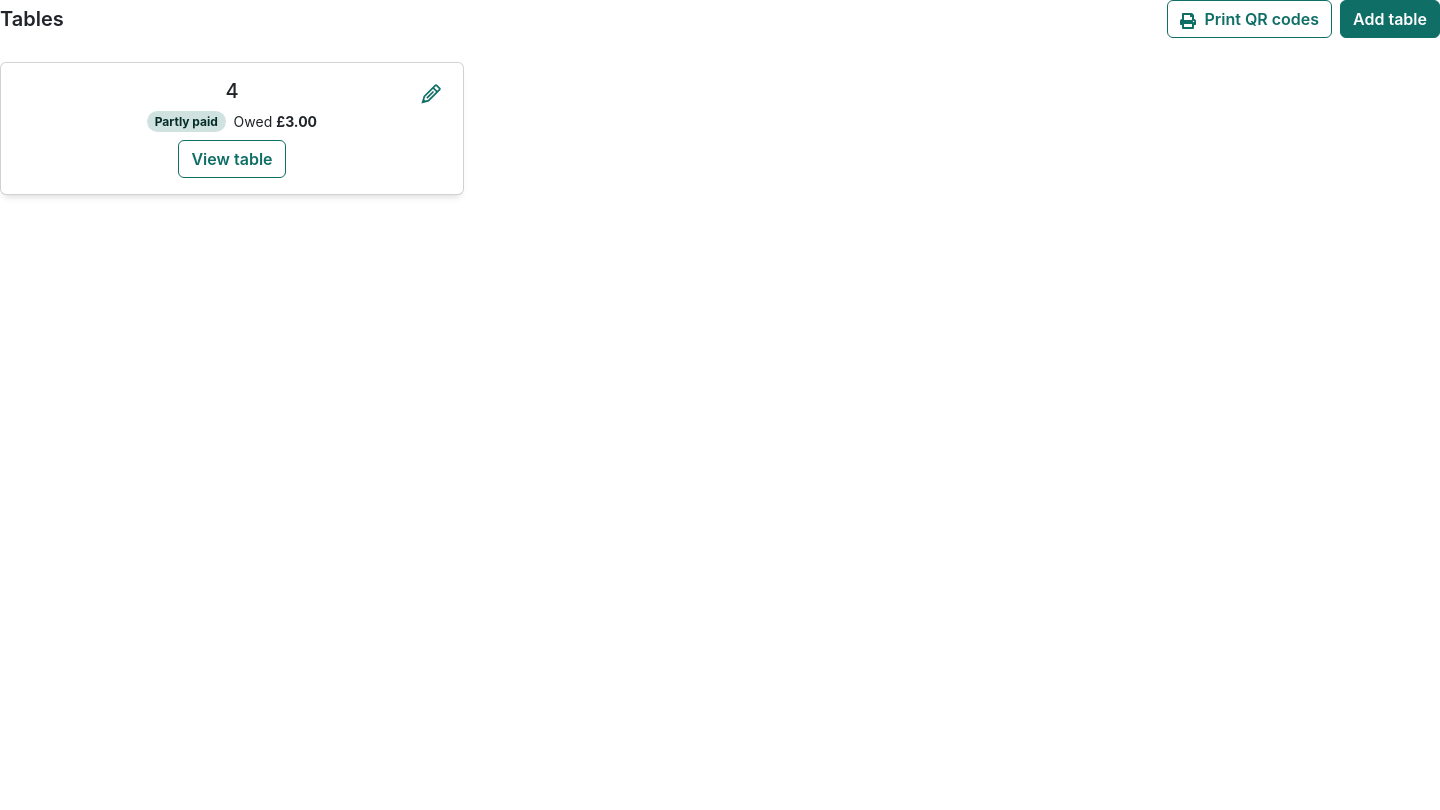
Test: refunding a payment › says nothing was refunded, and why, when PayPal refuses
The image size is (1440, 810).
Click the button with aria-label "View table 4": (232, 159) [178,140,286,178]
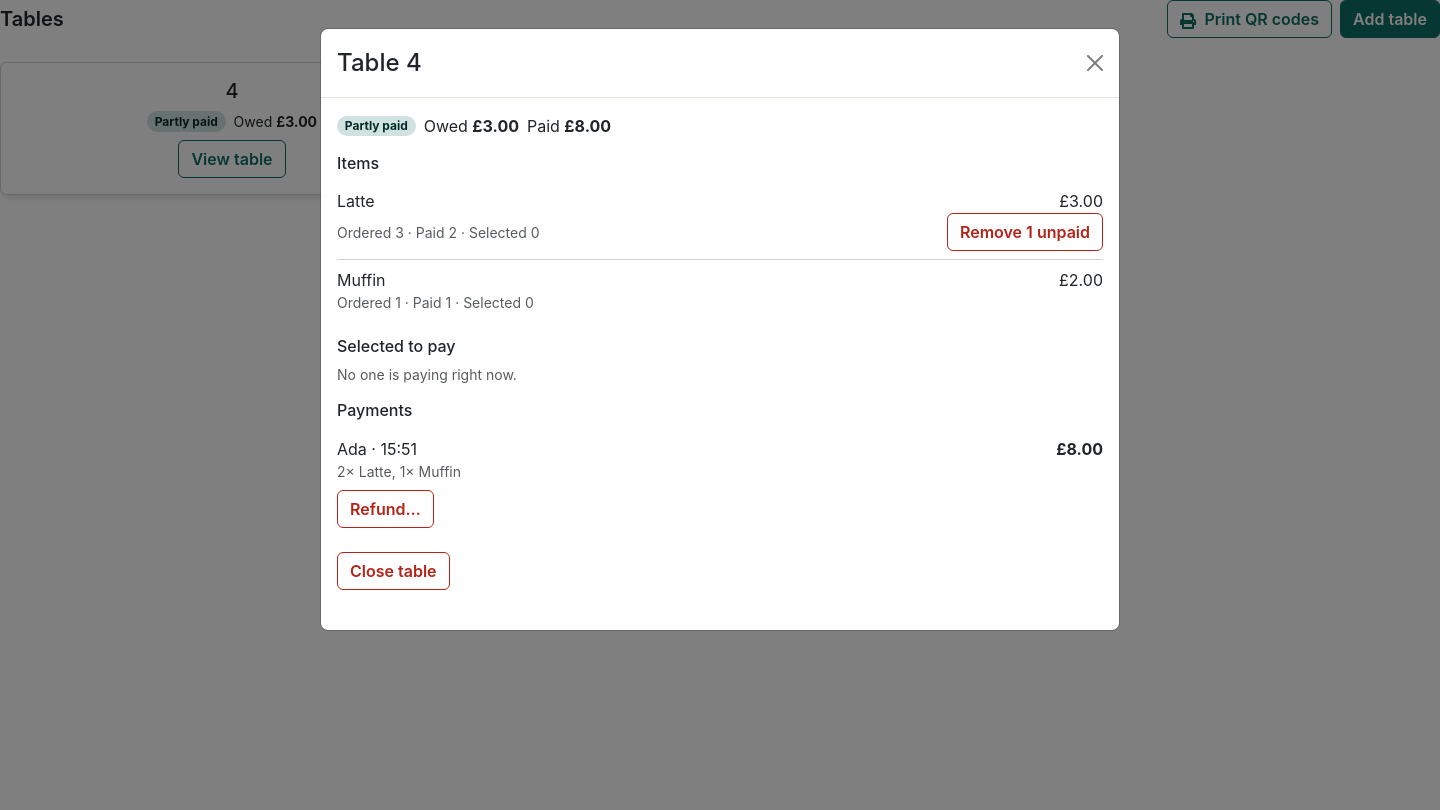
Click the button with aria-label "Refund items from Ada's payment of £8.00": (385, 509) [337,490,434,528]
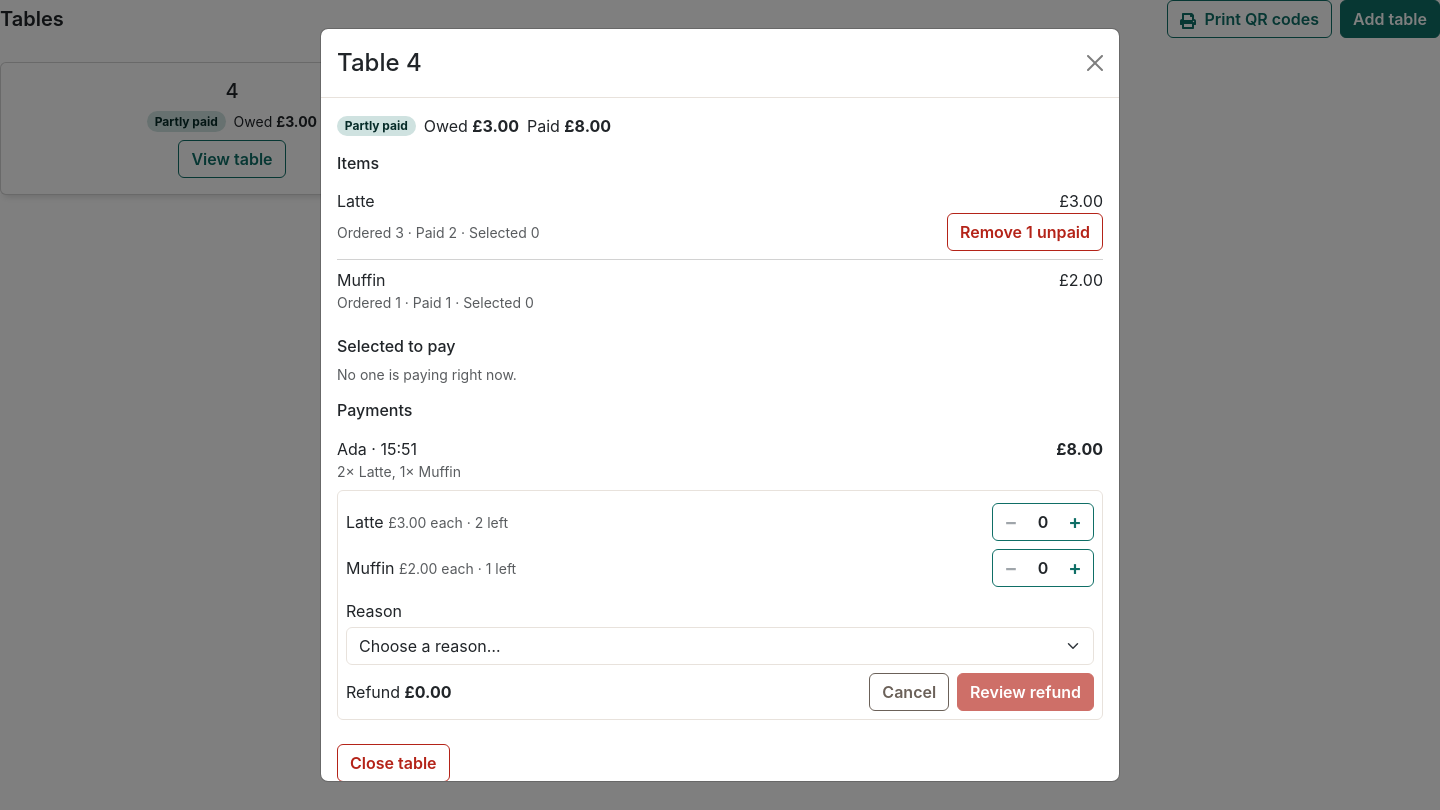
Click the button named "Refund one more Muffin": (1075, 568) [1057,550,1093,586]
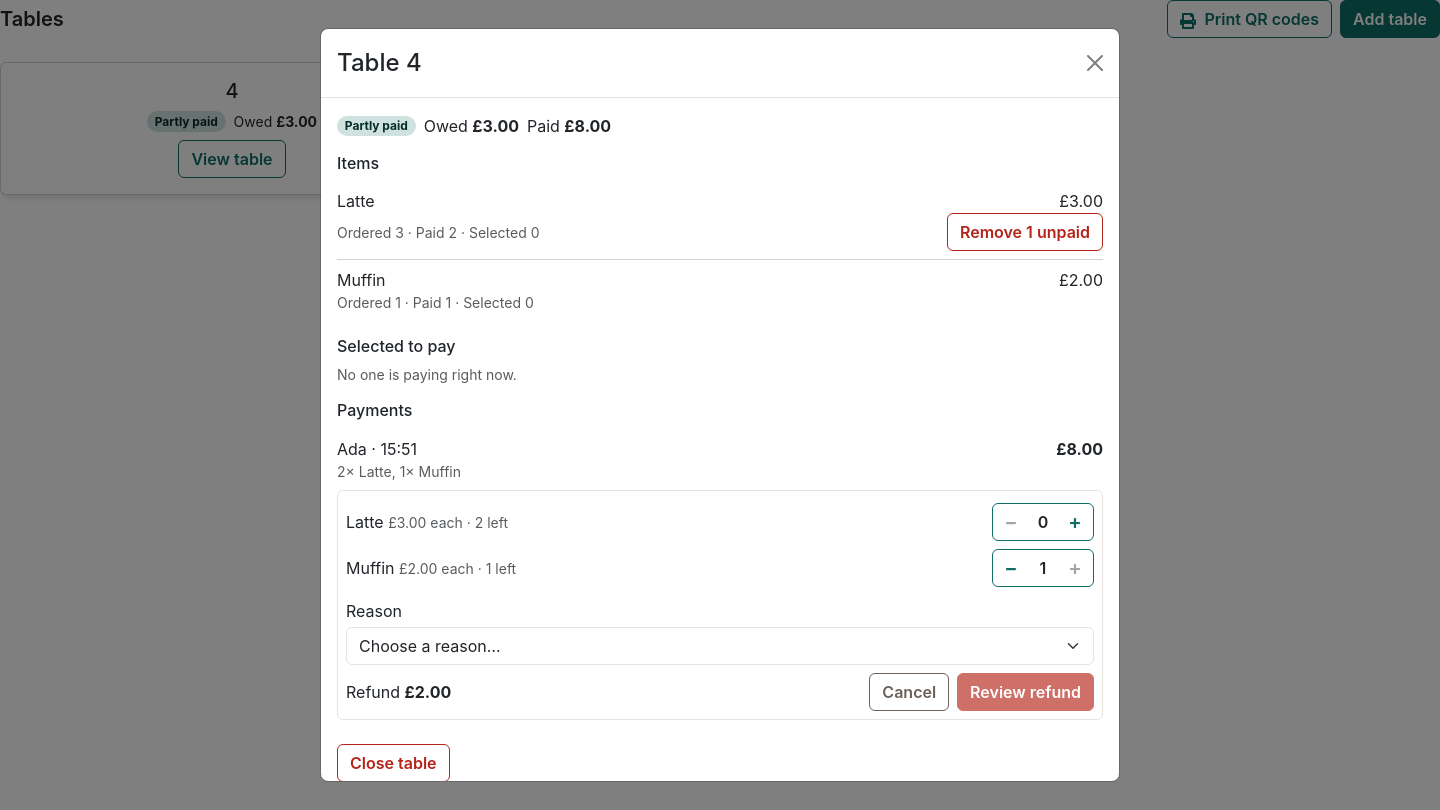
Select "Wrong item served" in the dropdown labelled "Reason": (720, 646) [346,627,1094,665]
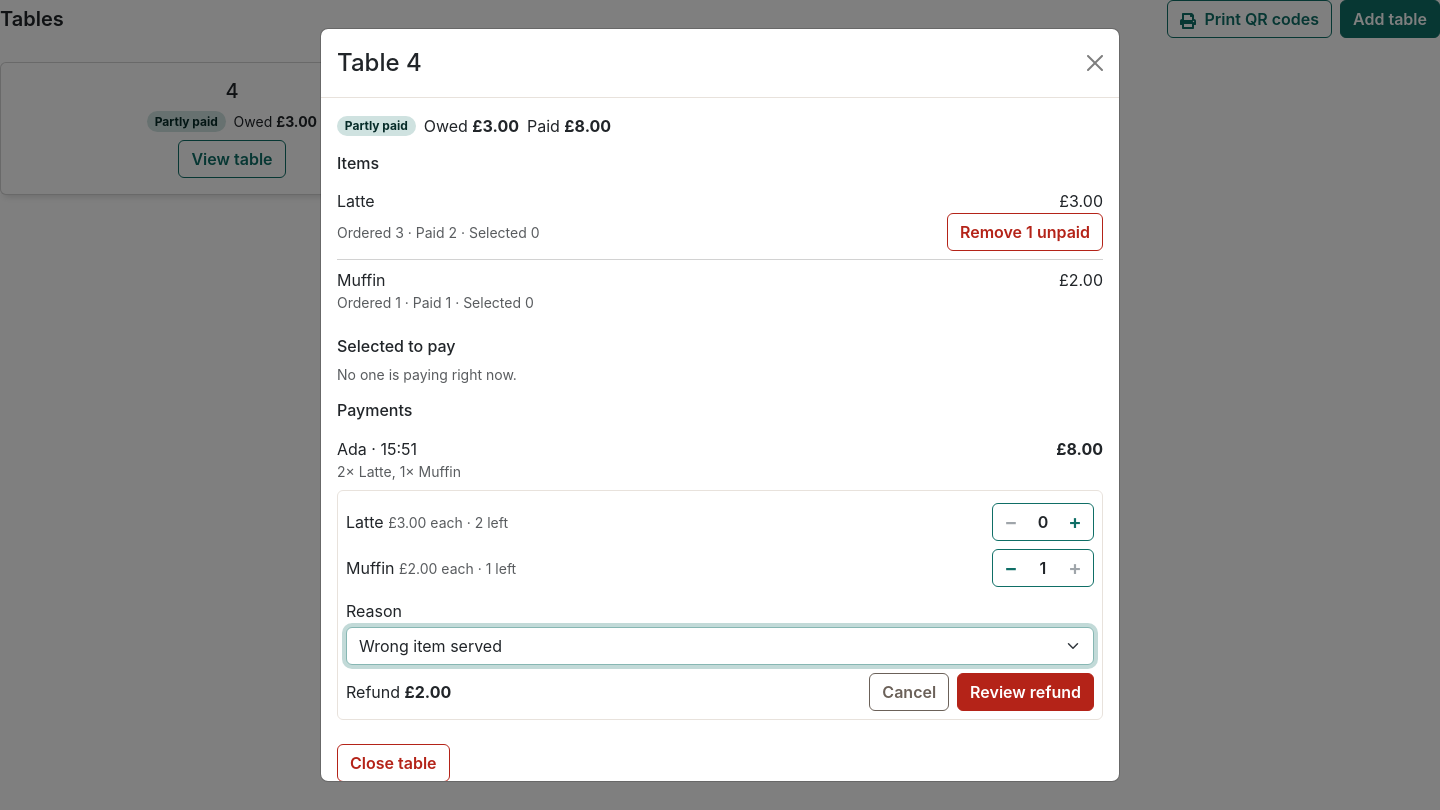
Click the button "Review refund": (1026, 692) [957,673,1094,711]
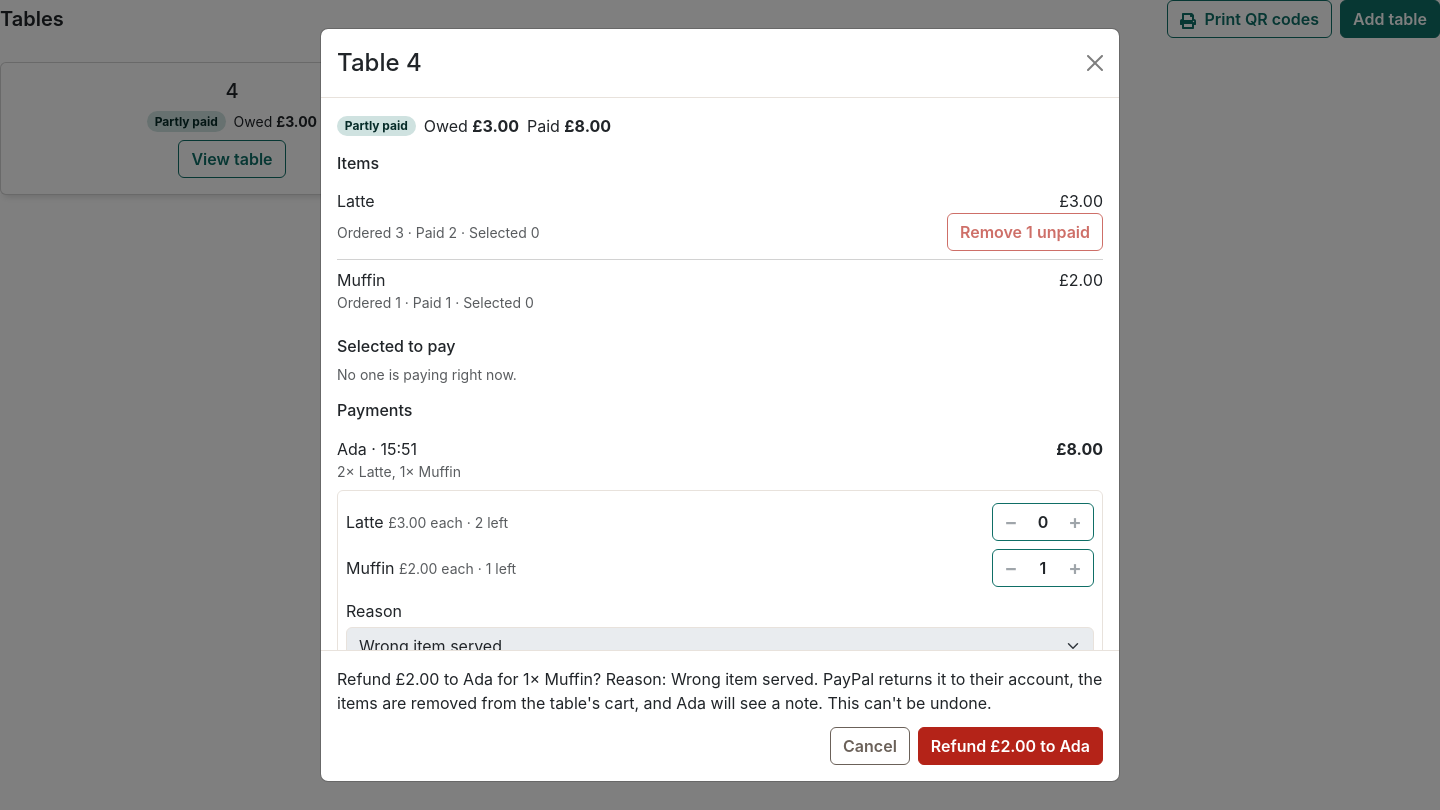
Click the button "Refund £2.00 to Ada": (1010, 746) [918,727,1103,765]
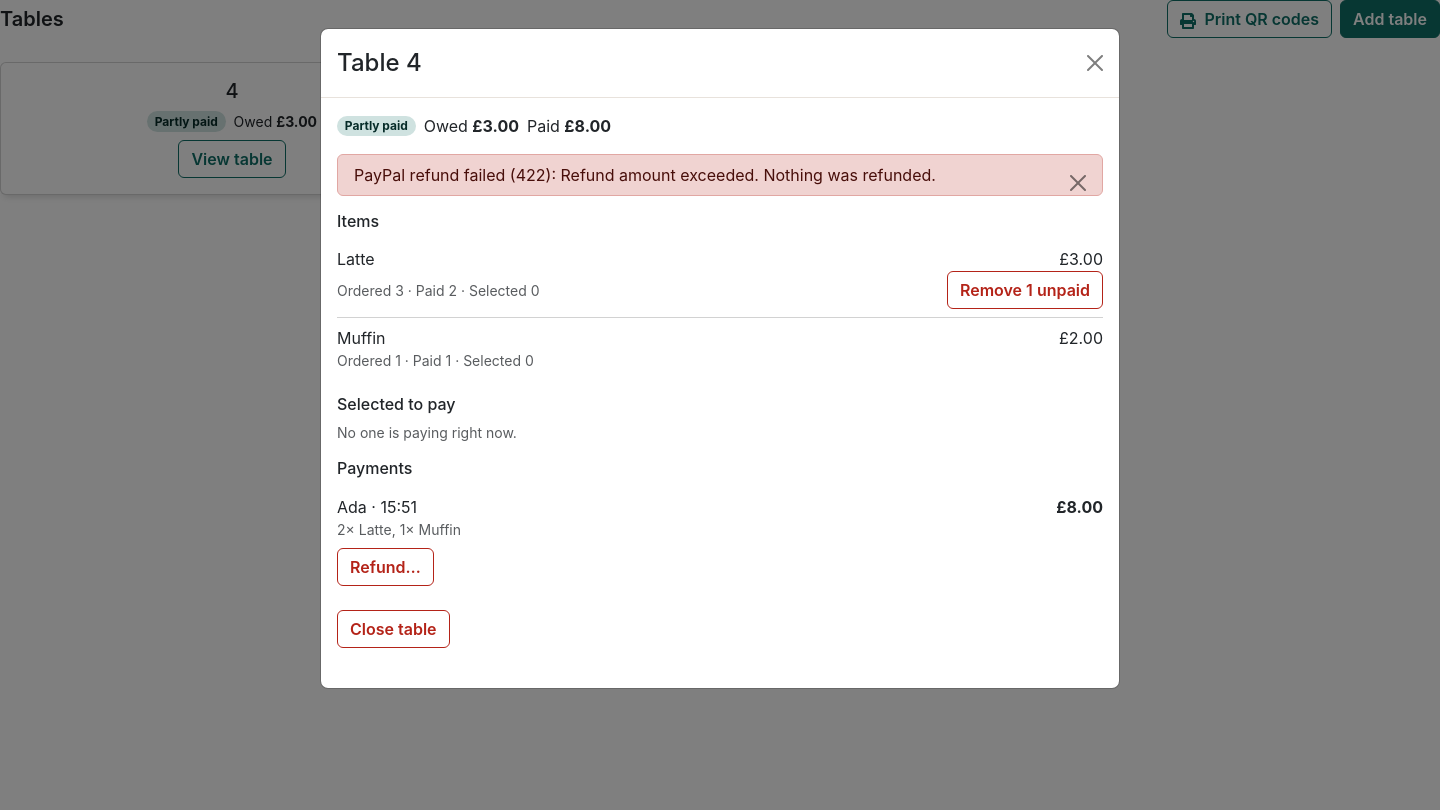
Result: the text "PayPal refund failed (422): Refund amount exceeded. Nothing was refunded." is shown at [337,154,1103,196]
